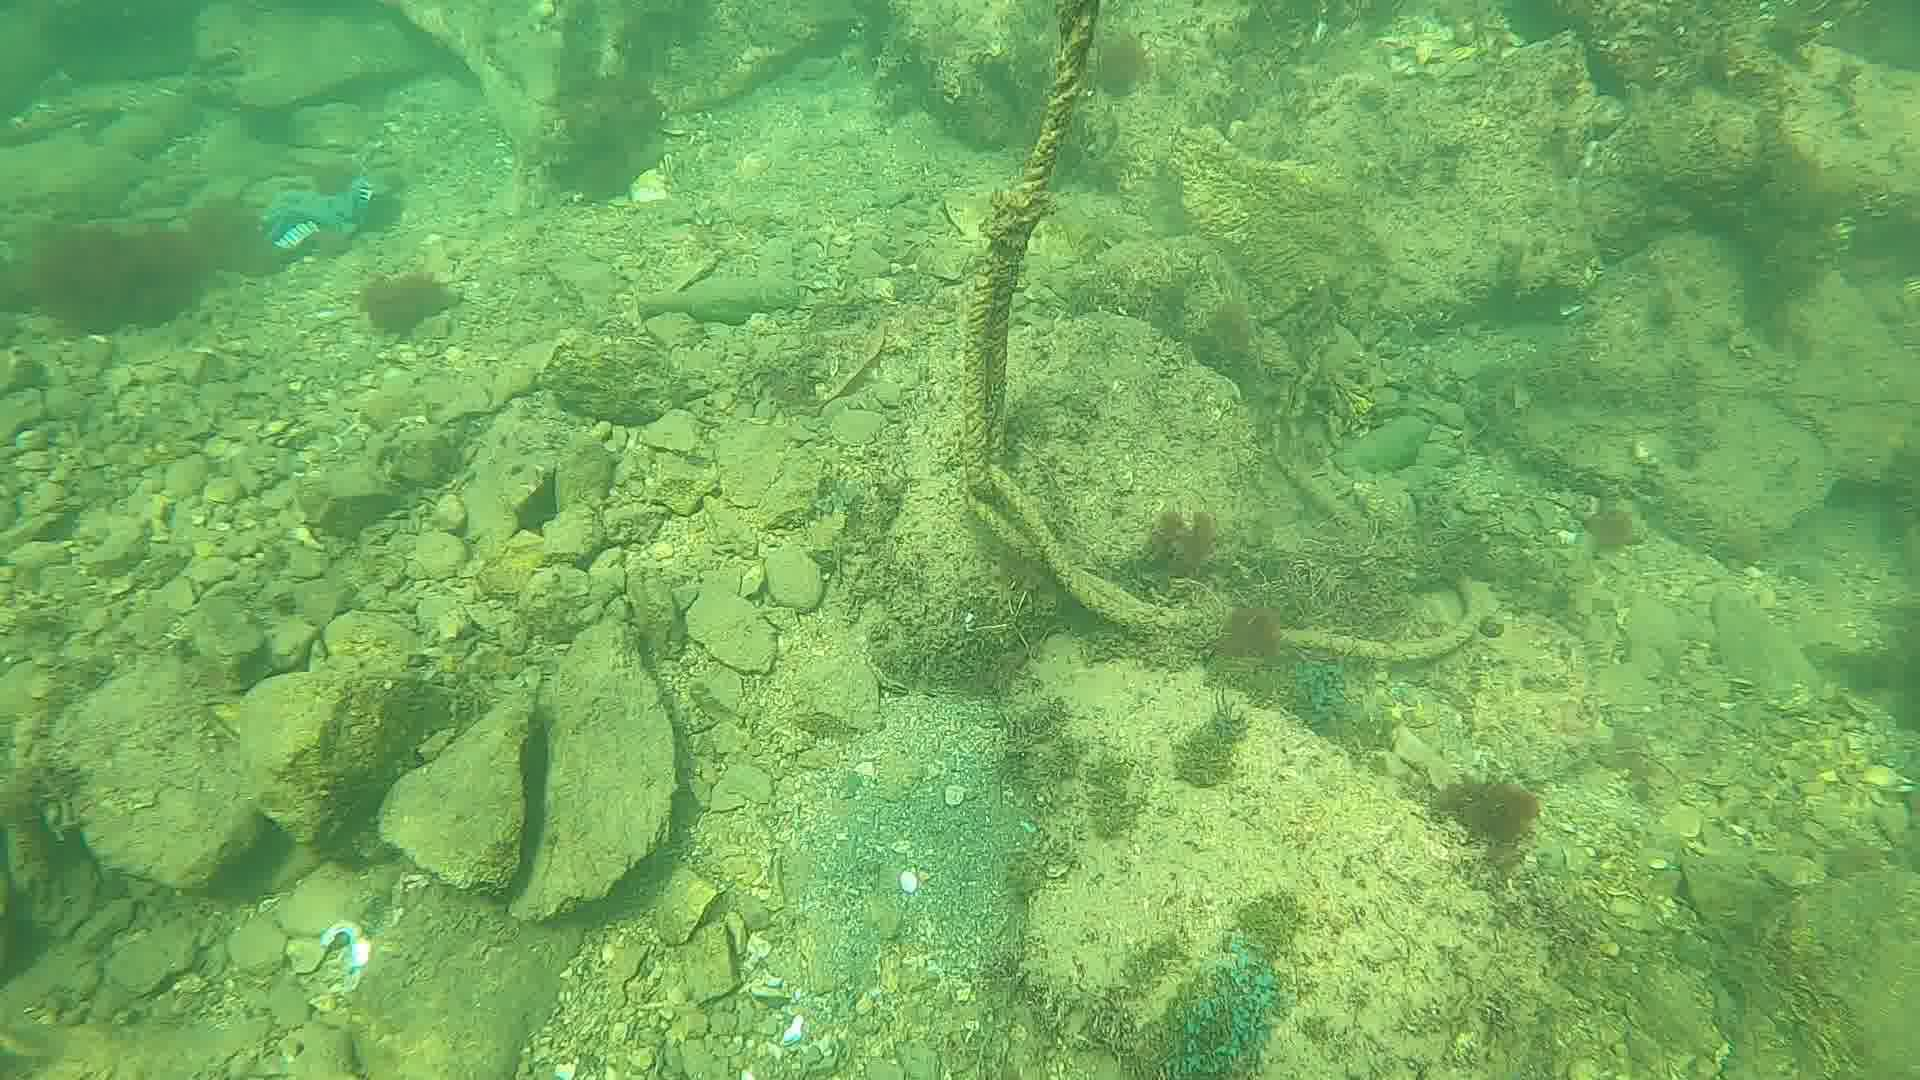bundle of ropes: (960, 0, 1478, 657)
